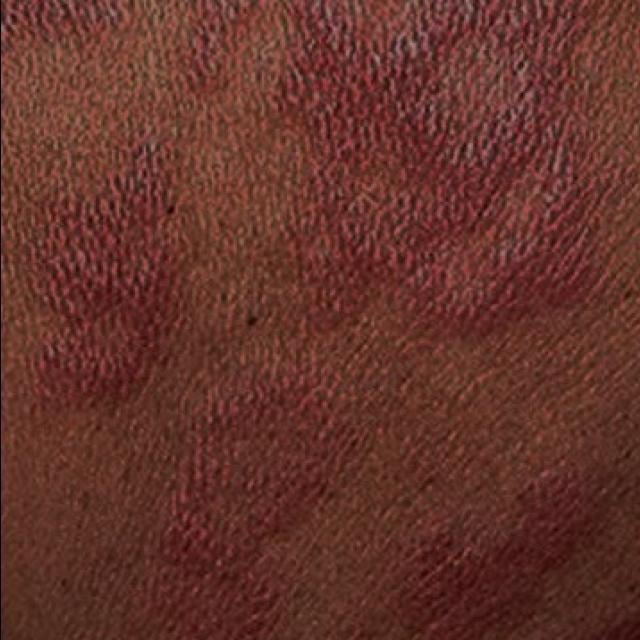Leprosy: (286, 2, 592, 354), (22, 134, 210, 445), (147, 374, 361, 604)
